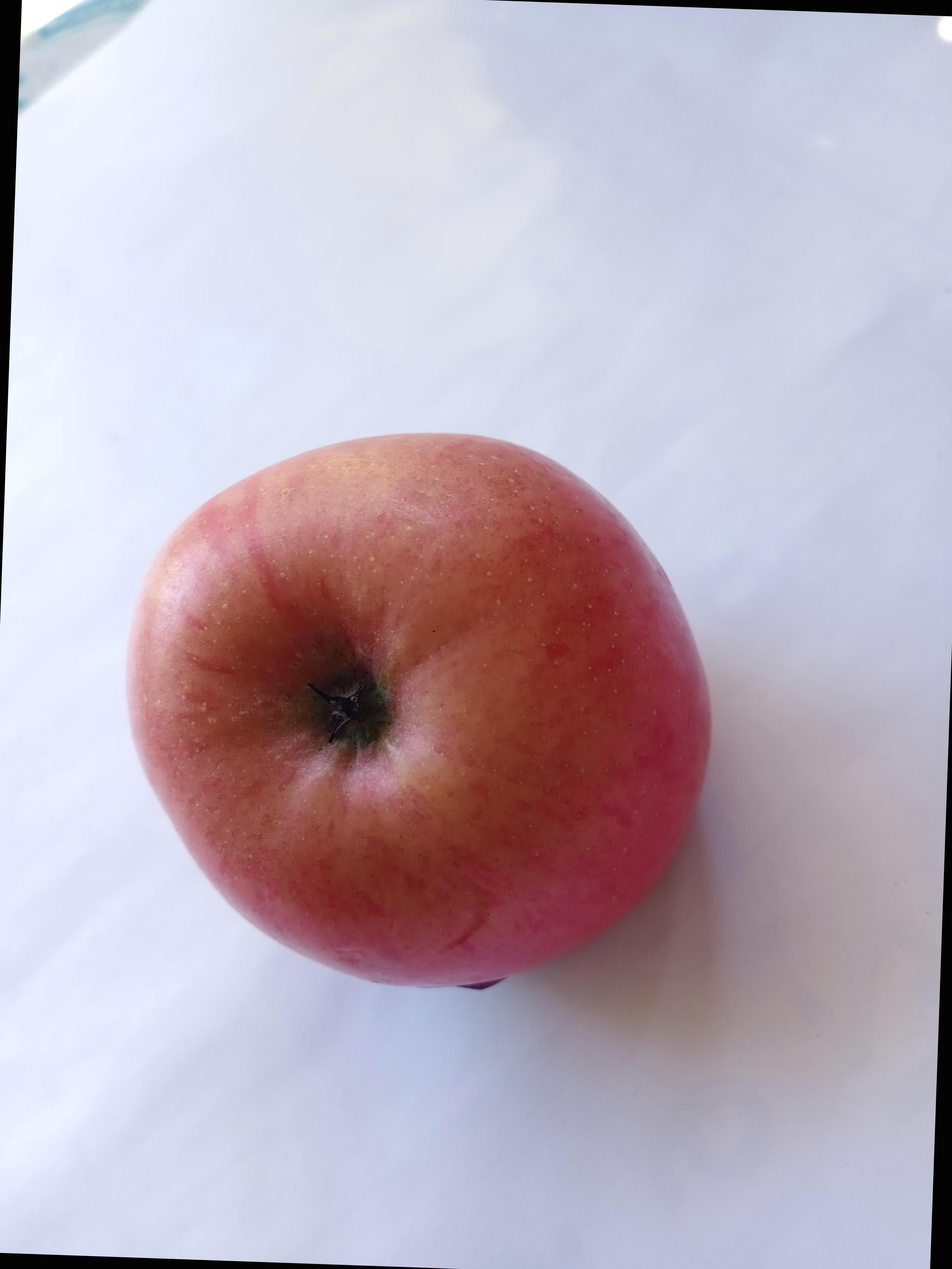Apple Ripe: (120, 383, 763, 999)
